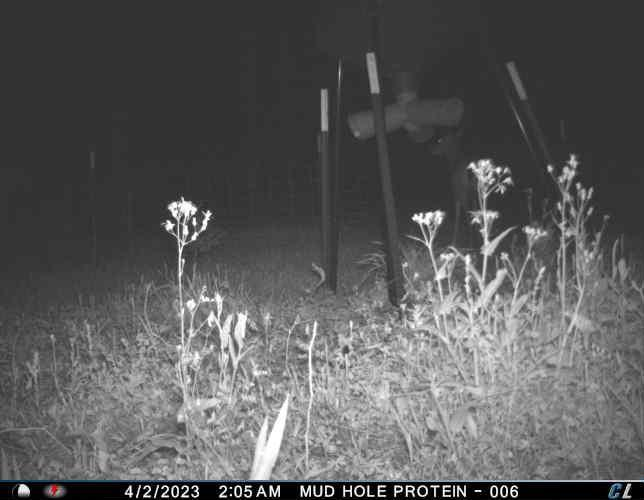Deer: (432, 127, 493, 252)
